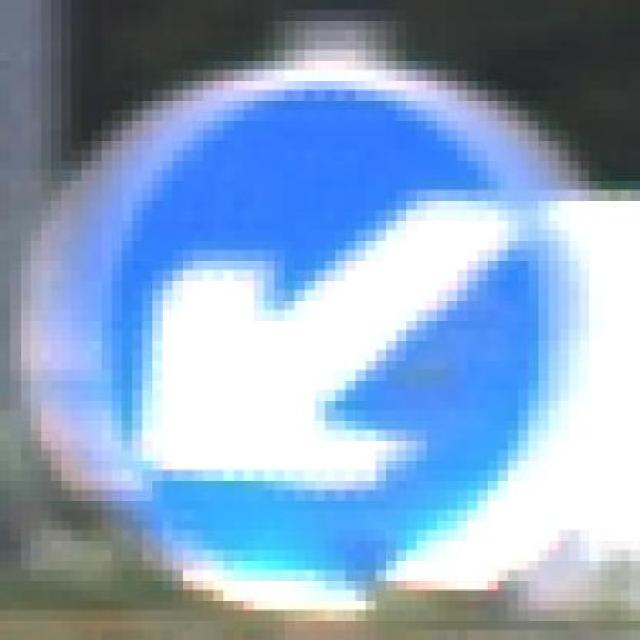Keep-Left: (40, 60, 589, 611)
